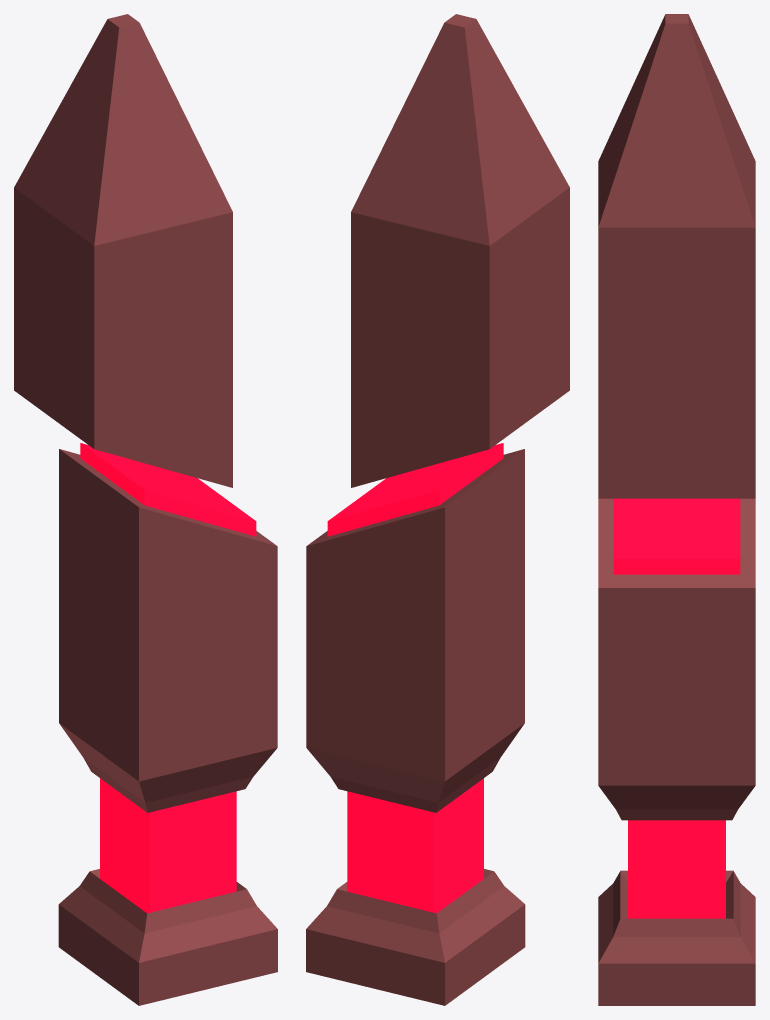
Rendered from Tower1.fbx.
3 views of the same model, side by side, from view 1: azimuth 30°, elevation 25°; view 2: azimuth 150°, elevation 25°; view 3: azimuth 270°, elevation 25° (orthographic).
Parts seen in each view (by area): view 1: Tower1, Tower1_Top; view 2: Tower1, Tower1_Top; view 3: Tower1, Tower1_Top.
Part boxes in pixels (x1,y1,x2,y2): Tower1: [58, 443, 277, 1005]; Tower1_Top: [14, 14, 232, 487]; Tower1: [306, 443, 525, 1005]; Tower1_Top: [351, 14, 569, 487]; Tower1: [598, 498, 755, 1005]; Tower1_Top: [598, 14, 755, 498].
Bounding box in the file's own units: 889 × 4393 × 672.
